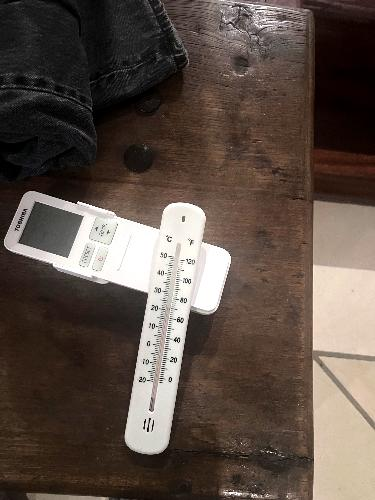thermo: (121, 201, 212, 456)
